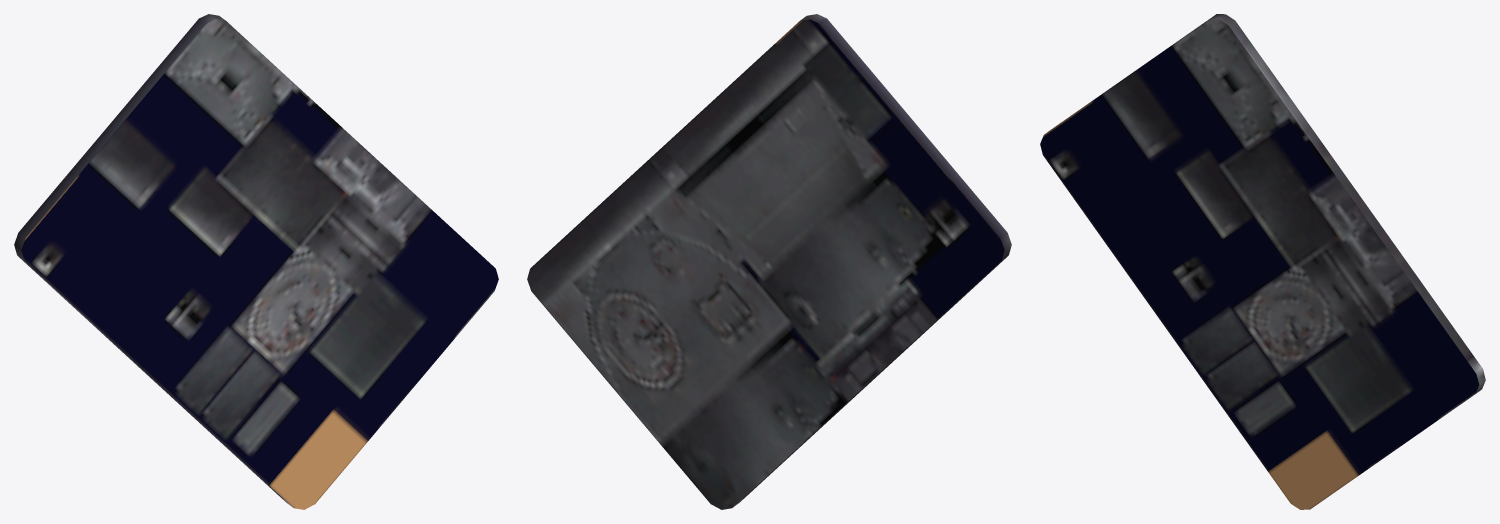
File: system.ico.obj
The picture shows the model from 3 angles, left to right: view 1: azimuth 30°, elevation 25°; view 2: azimuth 150°, elevation 25°; view 3: azimuth 330°, elevation 25°; orthographic projection. The views are drawn at different scales.
Size of the model in its own units: 4.1 by 4.2 by 0.1077.
